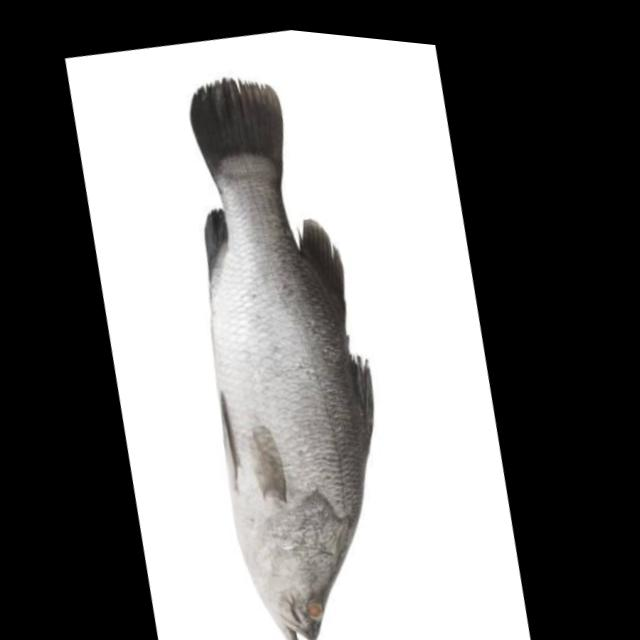Seabass: (130, 49, 452, 640)
